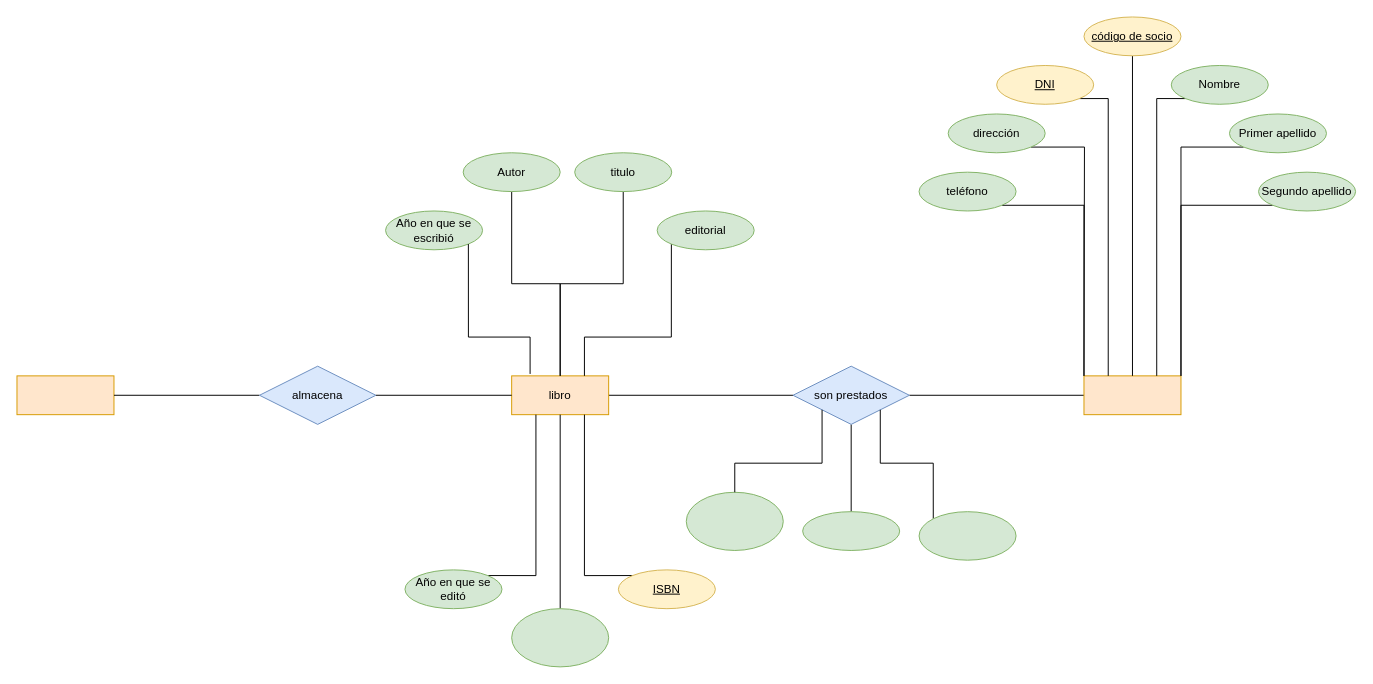
Image size: 1373x684. Some labels were removed from this diagram. Each missing label, with the centre of its shape:
"biblioteca" belongs at point 65,395.
"editorial en la que seescribió" belongs at point 560,637.
"Fecha" belongs at point 851,530.
"Fecha de entrega del libro" belongs at point 734,520.
"fecha limite de entrega" belongs at point 967,535.
"socio" belongs at point 1132,395.
